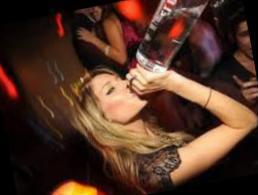Drunk: (97, 71, 146, 116)
